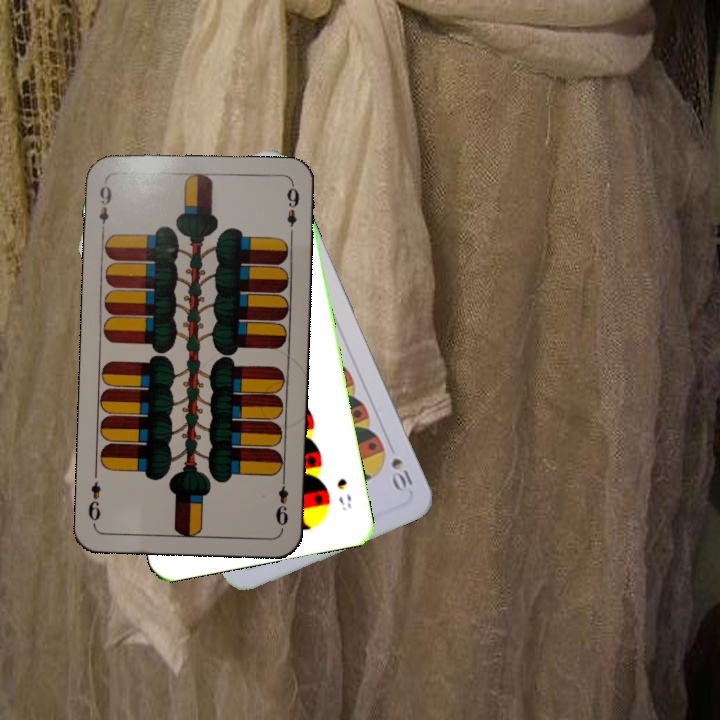E9: (272, 473, 292, 532), (95, 177, 115, 236)
S10: (387, 454, 416, 495)
S8: (333, 474, 354, 513)
